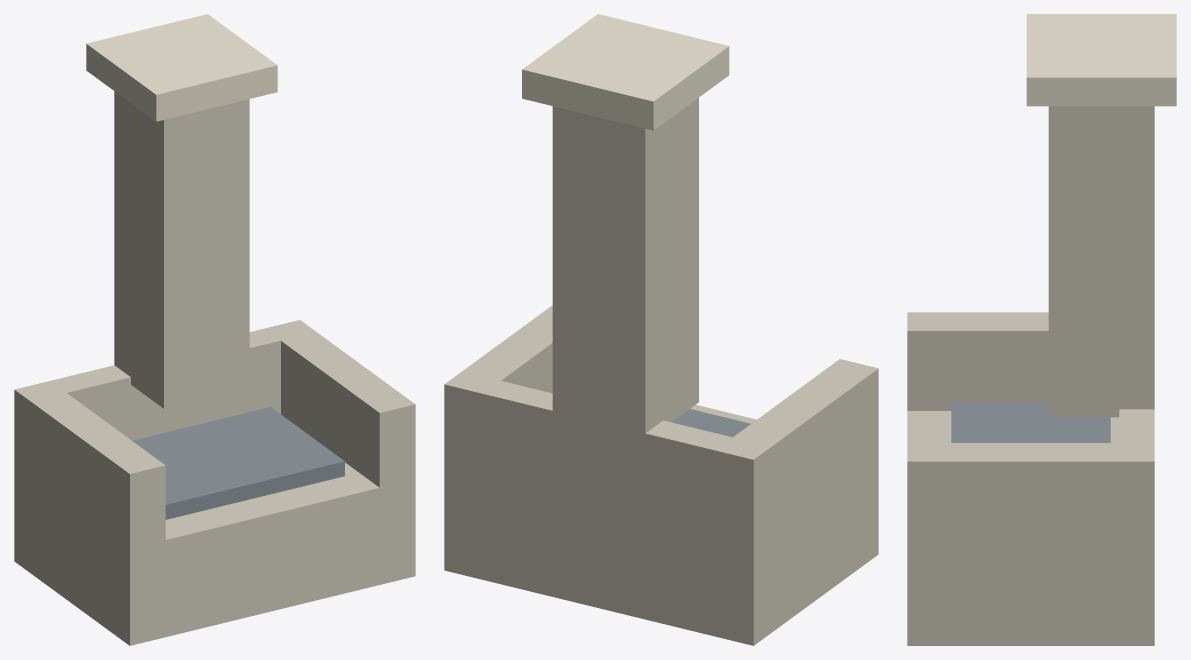
Rendered from forge-hearth.glb.
3 renders of one model, left to right at view 1: azimuth 30°, elevation 25°; view 2: azimuth 150°, elevation 25°; view 3: azimuth 270°, elevation 25°, orthographic. The views are drawn at different scales.
Parts seen in each view (by area): view 1: forge-hearth; view 2: forge-hearth; view 3: forge-hearth.
Boxes of the visible parts, bbox=[...] form: forge-hearth: bbox=[14, 14, 415, 645]; forge-hearth: bbox=[444, 14, 878, 645]; forge-hearth: bbox=[907, 14, 1176, 645].
Bounding box in the file's own units: 2 × 3.28 × 1.52.
